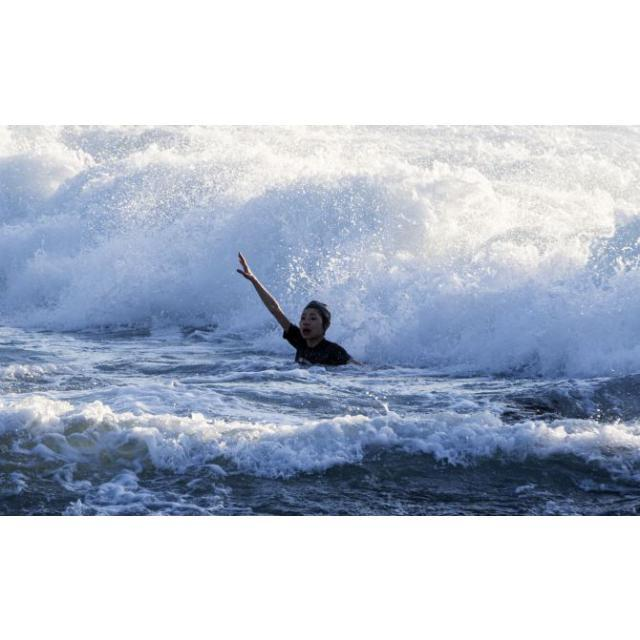human: (233, 246, 360, 371)
